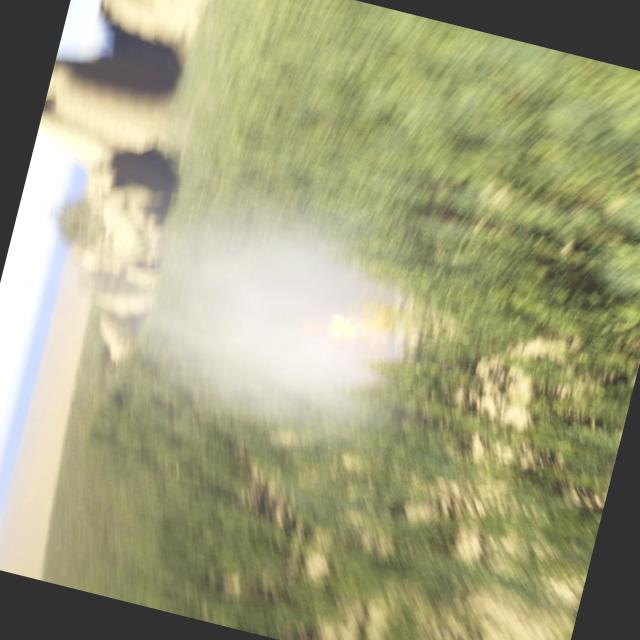fire: (300, 298, 386, 356)
smoke: (104, 162, 441, 461)
